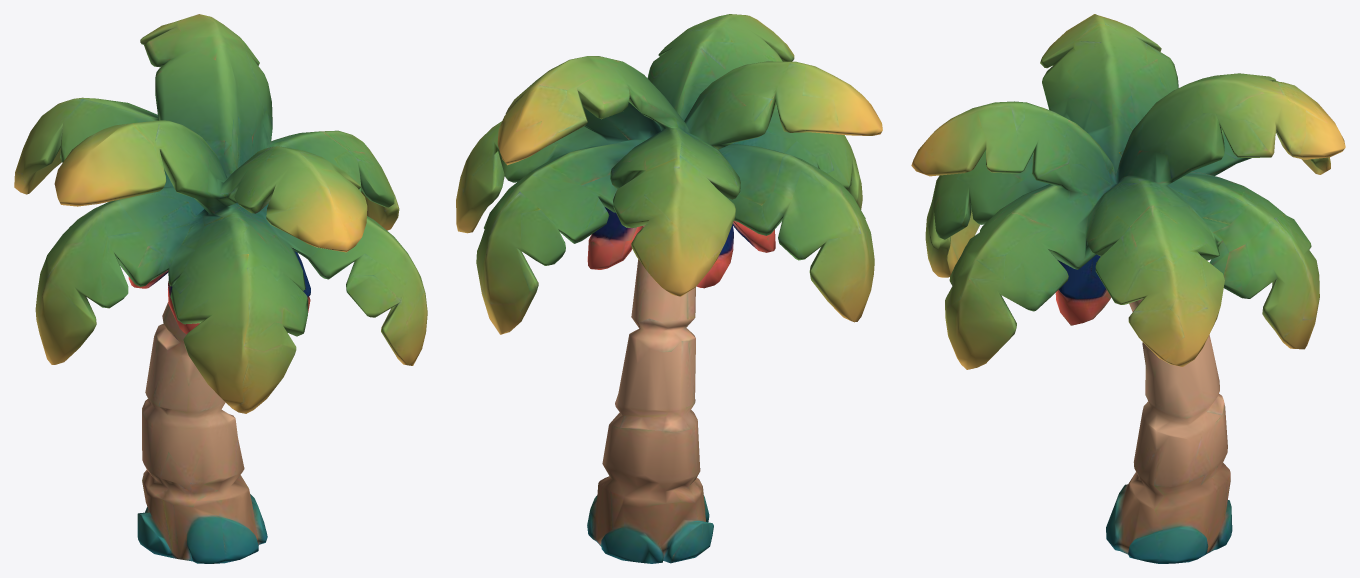
Rendered from palm-tree-512.glb.
The picture shows the model from 3 angles, left to right: view 1: azimuth 30°, elevation 25°; view 2: azimuth 150°, elevation 25°; view 3: azimuth 270°, elevation 25°; orthographic projection. The views are drawn at different scales.
Size of the model in its own units: 1.54 by 1.9 by 1.57.
1 material, 1 textured.
